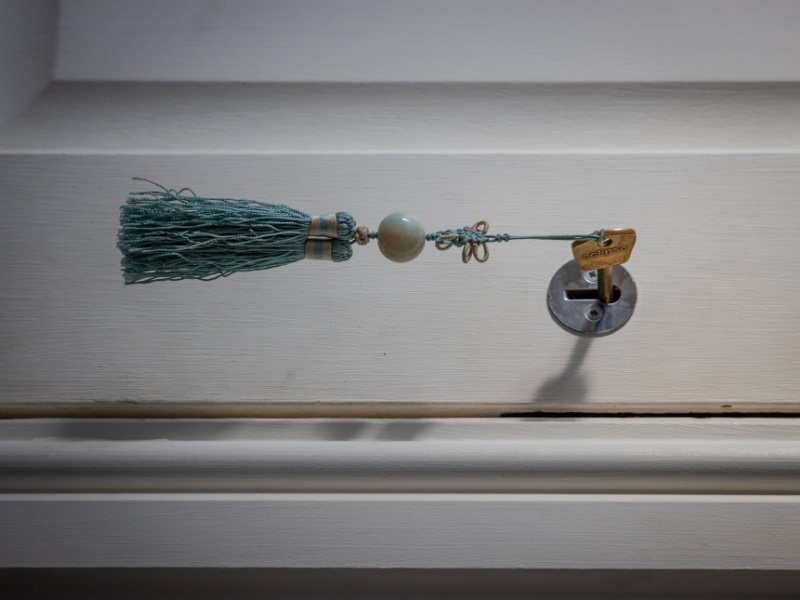key: (567, 221, 638, 311)
